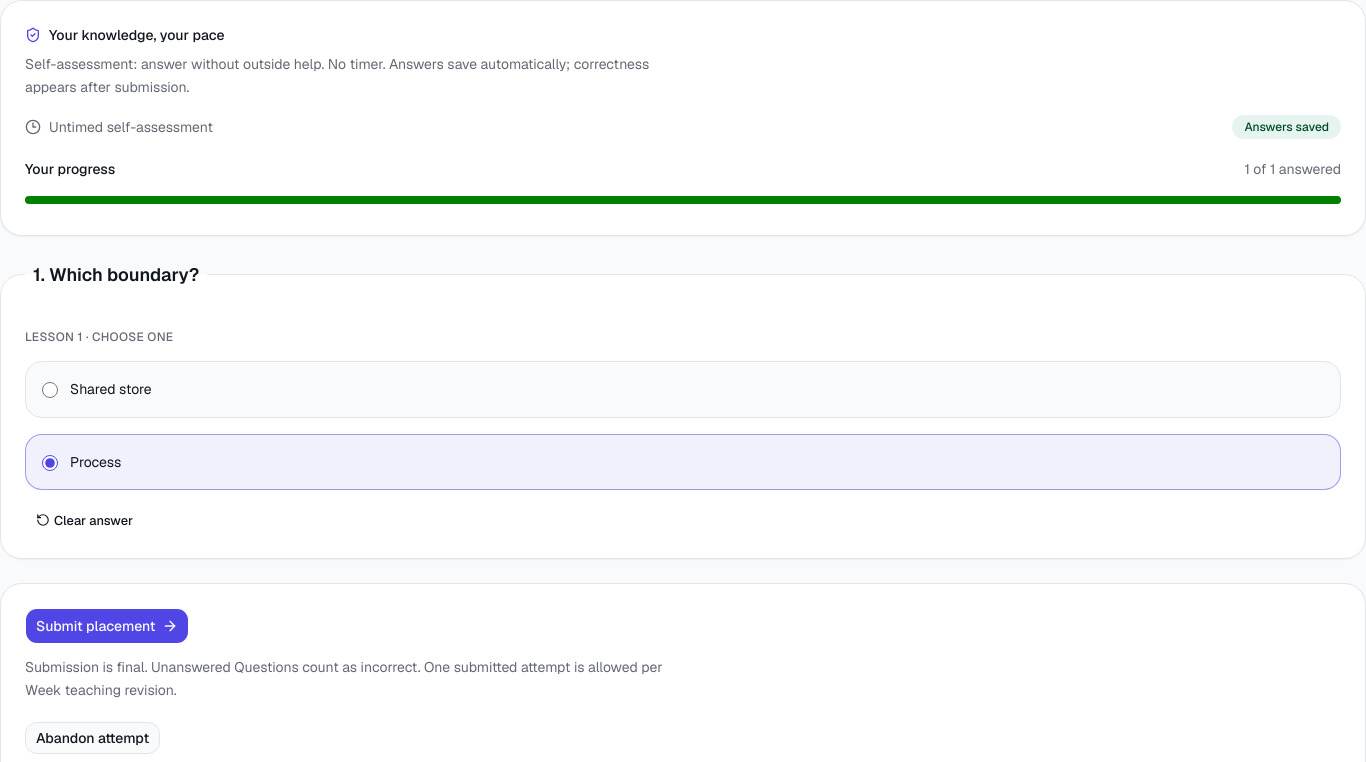
shows final per-Lesson results and explanations after submission
Click the button "Submit placement".
click(107, 626)  # box [25, 608, 188, 644]
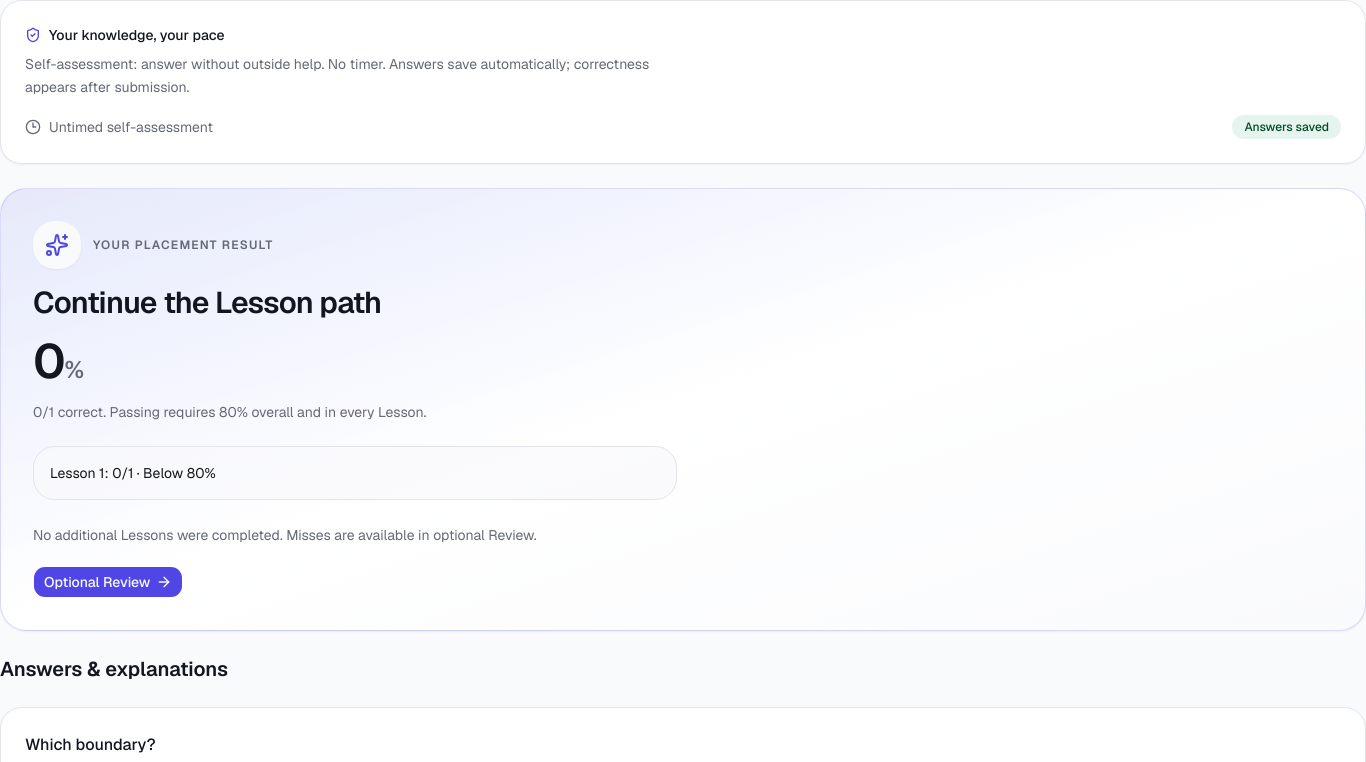
Check: the text "Lesson 1: 0/1 · Below 80%" is shown, box [33, 446, 677, 500]
Check: the radio button is gone
